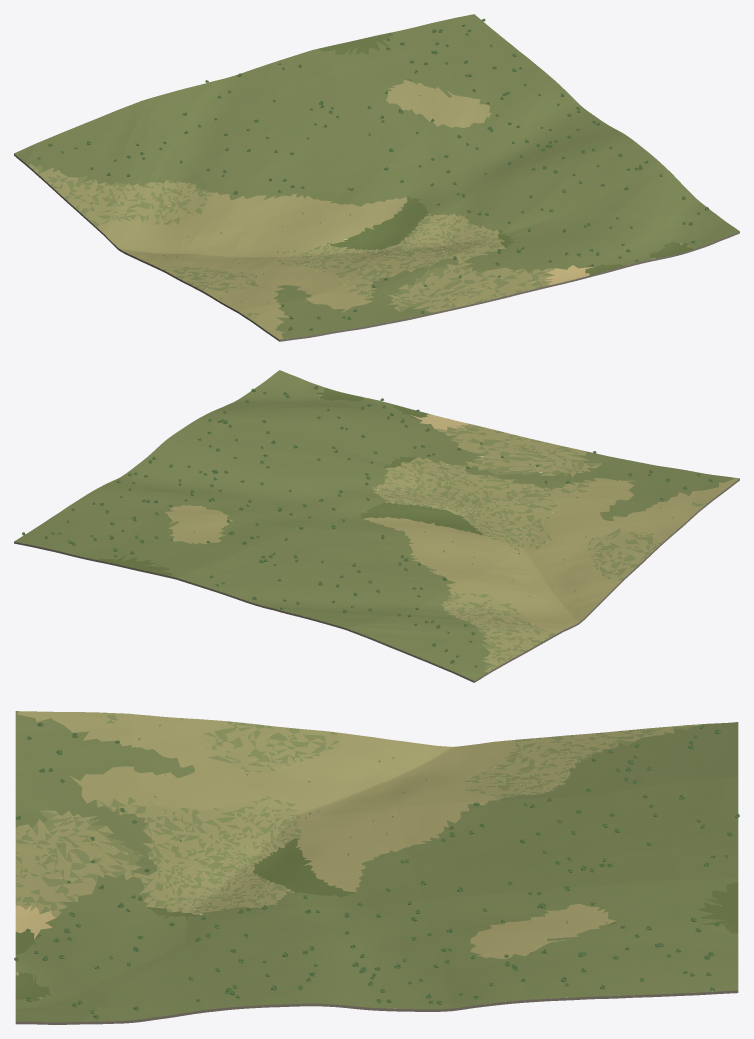
Rendered from parca_+1_-7-yakin.glb.
The picture shows the model from 3 angles, top to bottom: view 1: azimuth 30°, elevation 25°; view 2: azimuth 150°, elevation 25°; view 3: azimuth 270°, elevation 25°; orthographic projection. The views are drawn at different scales.
Visible parts, largest first — view 1: parca_+1_-7_arazi, parca_+1_-7_bitkiler; view 2: parca_+1_-7_arazi, parca_+1_-7_bitkiler; view 3: parca_+1_-7_arazi, parca_+1_-7_bitkiler.
Boxes of the visible parts, box(x1,y1,x2,y2) form: parca_+1_-7_arazi: box(14, 14, 739, 341); parca_+1_-7_bitkiler: box(37, 18, 708, 330); parca_+1_-7_arazi: box(14, 370, 739, 682); parca_+1_-7_bitkiler: box(22, 385, 713, 667); parca_+1_-7_arazi: box(15, 711, 738, 1024); parca_+1_-7_bitkiler: box(14, 718, 739, 1019).
Size of the model in its own units: 1003 by 108 by 1005.
